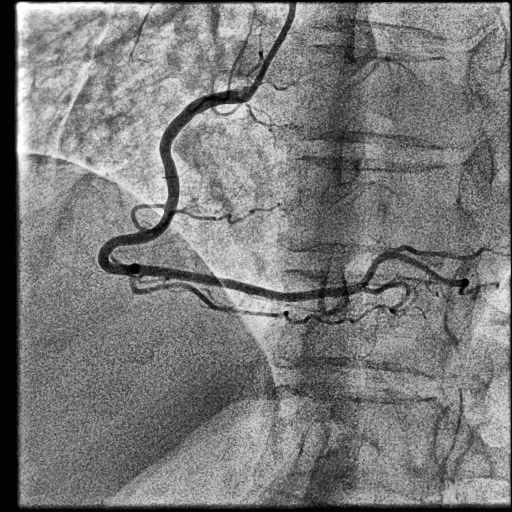pborca: (359, 251, 467, 288)
pda: (363, 281, 410, 297)
rca: (98, 89, 365, 302)
